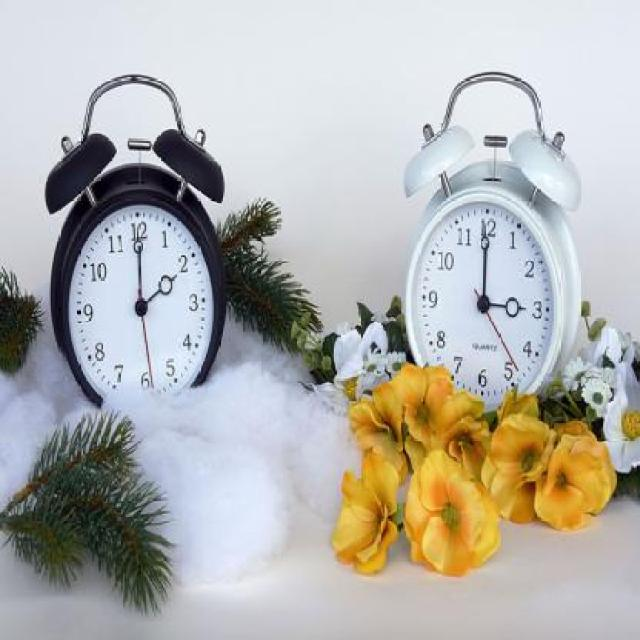clock: (70, 204, 215, 404), (407, 204, 555, 397)
